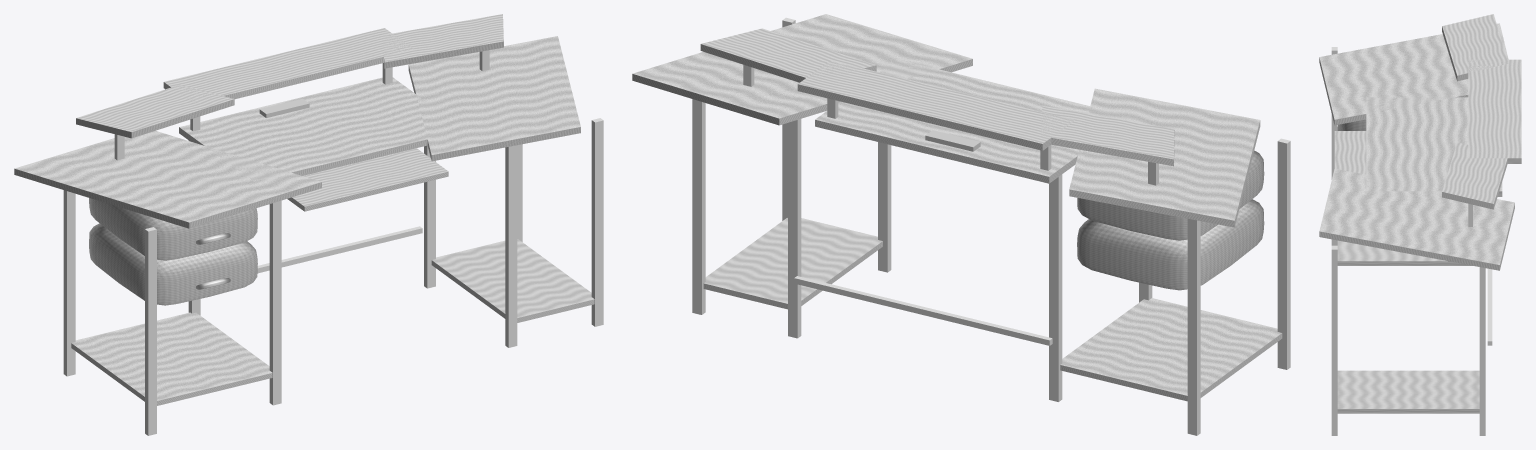
The picture shows the model from 3 angles, left to right: view 1: azimuth 30°, elevation 25°; view 2: azimuth 150°, elevation 25°; view 3: azimuth 270°, elevation 25°; orthographic projection. The views are drawn at different scales.
Visible parts, largest first — view 1: 2 desktop_left_wing, 3 desktop_right_wing, 1 desktop_center, 17 left_bottom_shelf, 4 monitor_stand_center, 22 right_bottom_shelf, 14 drawer_bottom, 13 drawer_top, 11 keyboard_tray, 5 monitor_stand_left, 6 monitor_stand_right, 24 right_leg_fr (+7 smaller); view 2: 2 desktop_left_wing, 3 desktop_right_wing, 17 left_bottom_shelf, 1 desktop_center, 4 monitor_stand_center, 14 drawer_bottom, 22 right_bottom_shelf, 5 monitor_stand_left, 6 monitor_stand_right, 13 drawer_top, 18 left_leg_fl, 21 left_leg_br (+7 smaller); view 3: 3 desktop_right_wing, 1 desktop_center, 2 desktop_left_wing, 22 right_bottom_shelf, 4 monitor_stand_center, 5 monitor_stand_left, 6 monitor_stand_right, 17 left_bottom_shelf, 11 keyboard_tray, 24 right_leg_fr, 26 right_leg_br, 27 back_crossbar_lower (+2 smaller).
Part boxes in pixels (x1,y1,x2,y2): 2 desktop_left_wing: [14, 131, 321, 228]; 3 desktop_right_wing: [408, 36, 580, 161]; 1 desktop_center: [179, 77, 430, 181]; 17 left_bottom_shelf: [71, 312, 272, 405]; 4 monitor_stand_center: [163, 28, 413, 102]; 22 right_bottom_shelf: [431, 239, 594, 322]; 14 drawer_bottom: [89, 223, 257, 305]; 13 drawer_top: [89, 198, 257, 260]; 11 keyboard_tray: [287, 148, 448, 211]; 5 monitor_stand_left: [76, 85, 234, 138]; 6 monitor_stand_right: [383, 14, 503, 68]; 24 right_leg_fr: [591, 118, 603, 326]; 2 desktop_left_wing: [1069, 88, 1260, 227]; 3 desktop_right_wing: [632, 14, 972, 125]; 17 left_bottom_shelf: [1060, 298, 1282, 401]; 1 desktop_center: [815, 59, 1129, 183]; 4 monitor_stand_center: [797, 60, 1074, 150]; 14 drawer_bottom: [1077, 199, 1264, 290]; 22 right_bottom_shelf: [703, 218, 882, 309]; 5 monitor_stand_left: [1041, 105, 1174, 166]; 6 monitor_stand_right: [700, 28, 876, 82]; 13 drawer_top: [1077, 150, 1264, 240]; 18 left_leg_fl: [1277, 138, 1290, 369]; 21 left_leg_br: [1049, 174, 1062, 401]; 3 desktop_right_wing: [1319, 169, 1514, 270]; 1 desktop_center: [1366, 97, 1502, 196]; 2 desktop_left_wing: [1319, 23, 1508, 125]; 22 right_bottom_shelf: [1337, 370, 1479, 413]; 4 monitor_stand_center: [1468, 59, 1521, 163]; 5 monitor_stand_left: [1442, 14, 1508, 81]; 6 monitor_stand_right: [1442, 142, 1507, 209]; 17 left_bottom_shelf: [1337, 240, 1472, 265]; 11 keyboard_tray: [1334, 131, 1366, 174]; 24 right_leg_fr: [1331, 245, 1337, 435]; 26 right_leg_br: [1479, 267, 1485, 435]; 27 back_crossbar_lower: [1487, 268, 1492, 345].
Size of the model in its own units: 2 by 0.8738 by 0.7061.
Materials: 5 (2 with a texture image).
